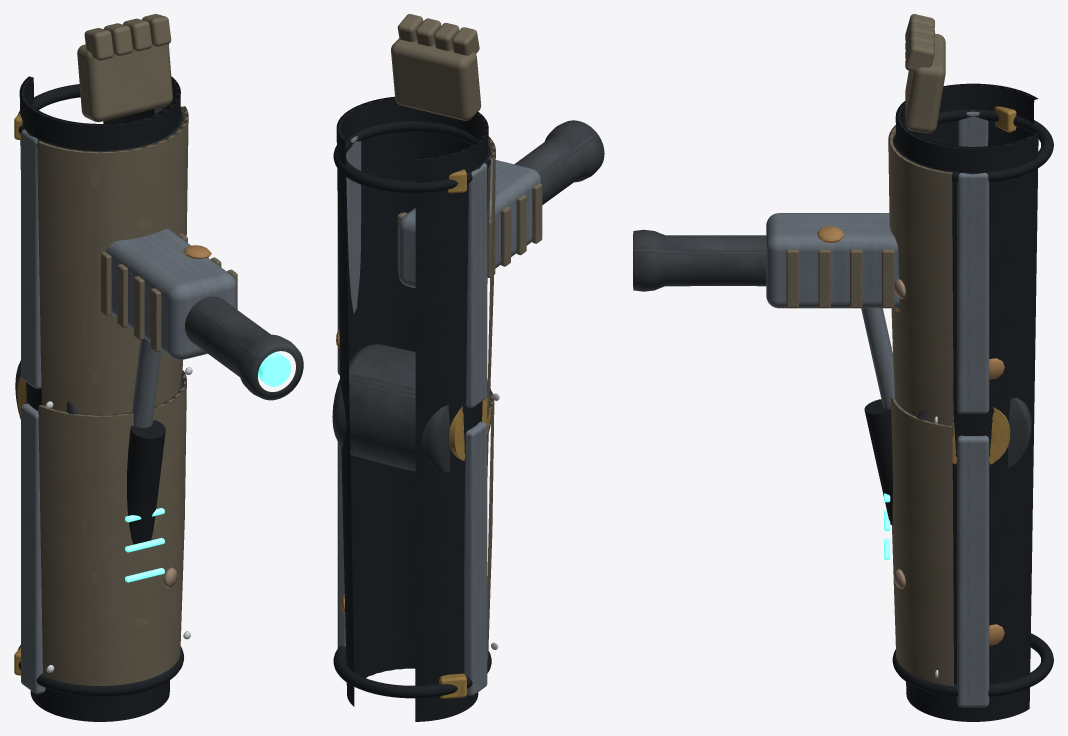
Rendered from exo-arm.glb.
The picture shows the model from 3 angles, left to right: view 1: azimuth 30°, elevation 25°; view 2: azimuth 150°, elevation 25°; view 3: azimuth 270°, elevation 25°; orthographic projection. The views are drawn at different scales.
Visible parts, largest first — view 1: ceramic / ceramic composite panel, alloy / machined anodized alloy, polymer / stippled polymer, darksteel / oil-blackened fittings, energy / emissive field channel, brass / polished brass furniture; view 2: polymer / stippled polymer, alloy / machined anodized alloy, darksteel / oil-blackened fittings, ceramic / ceramic composite panel, brass / polished brass furniture; view 3: polymer / stippled polymer, ceramic / ceramic composite panel, alloy / machined anodized alloy, darksteel / oil-blackened fittings, brass / polished brass furniture.
Part boxes in pixels (<box>): ceramic / ceramic composite panel: <box>37,14,237,685</box>; alloy / machined anodized alloy: <box>21,106,236,694</box>; polymer / stippled polymer: <box>18,76,184,721</box>; darksteel / oil-blackened fittings: <box>15,296,303,419</box>; energy / emissive field channel: <box>125,352,290,582</box>; brass / polished brass furniture: <box>14,113,26,675</box>; polymer / stippled polymer: <box>333,96,491,721</box>; alloy / machined anodized alloy: <box>337,136,540,695</box>; darksteel / oil-blackened fittings: <box>332,120,604,472</box>; ceramic / ceramic composite panel: <box>391,14,542,660</box>; brass / polished brass furniture: <box>439,169,490,698</box>; polymer / stippled polymer: <box>864,83,1053,721</box>; ceramic / ceramic composite panel: <box>786,14,953,686</box>; alloy / machined anodized alloy: <box>766,111,989,707</box>; darksteel / oil-blackened fittings: <box>633,229,1031,467</box>; brass / polished brass furniture: <box>938,106,1016,464</box>.
Bounding box in the file's own units: 0.155 × 0.6897 × 0.3963.
Materials: 9 (6 with a texture image).
